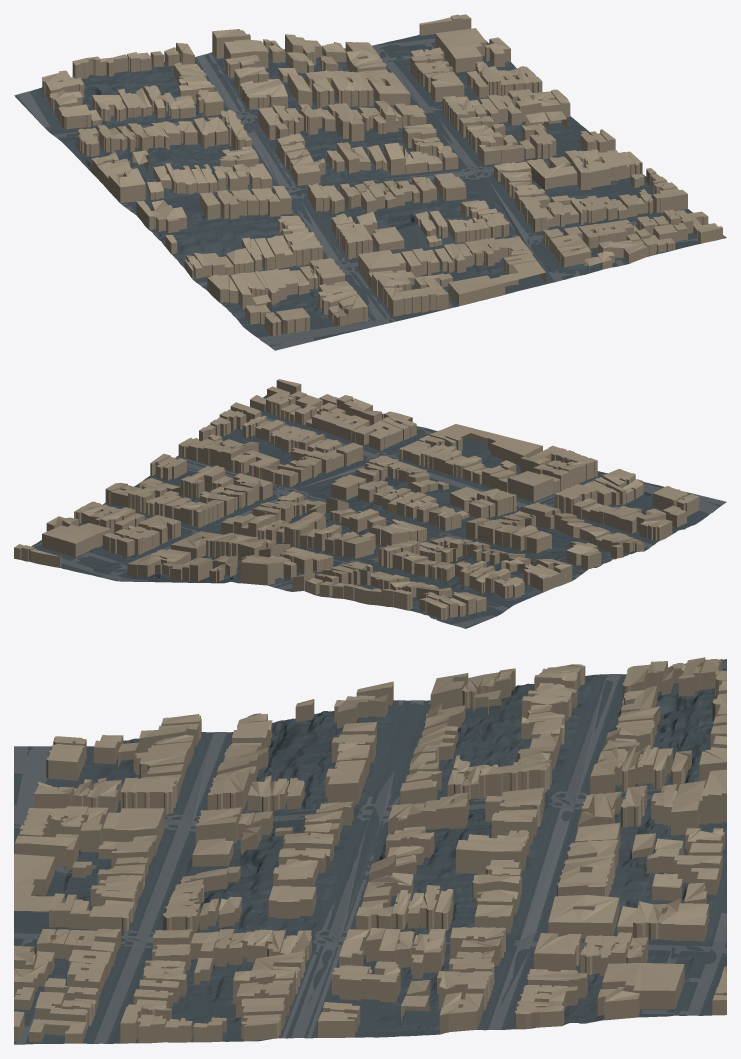
File: epsg26910-1430-10894.lod0.glb
3 renders of one model, top to bottom at view 1: azimuth 30°, elevation 25°; view 2: azimuth 150°, elevation 25°; view 3: azimuth 270°, elevation 25°, orthographic. The views are drawn at different scales.
Visible parts, largest first — view 1: epsg26910-1430-10894-lod0; view 2: epsg26910-1430-10894-lod0; view 3: epsg26910-1430-10894-lod0.
Boxes of the visible parts, x1,y1,x2,y2 form: epsg26910-1430-10894-lod0: (14, 14, 726, 350); epsg26910-1430-10894-lod0: (14, 379, 726, 628); epsg26910-1430-10894-lod0: (14, 657, 726, 1044).
Size of the model in its own units: 384 by 71.13 by 384.
